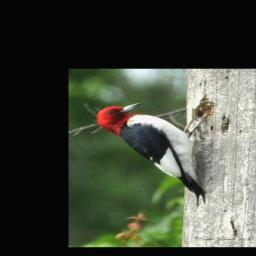Woodpecker: (96, 102, 205, 205)
